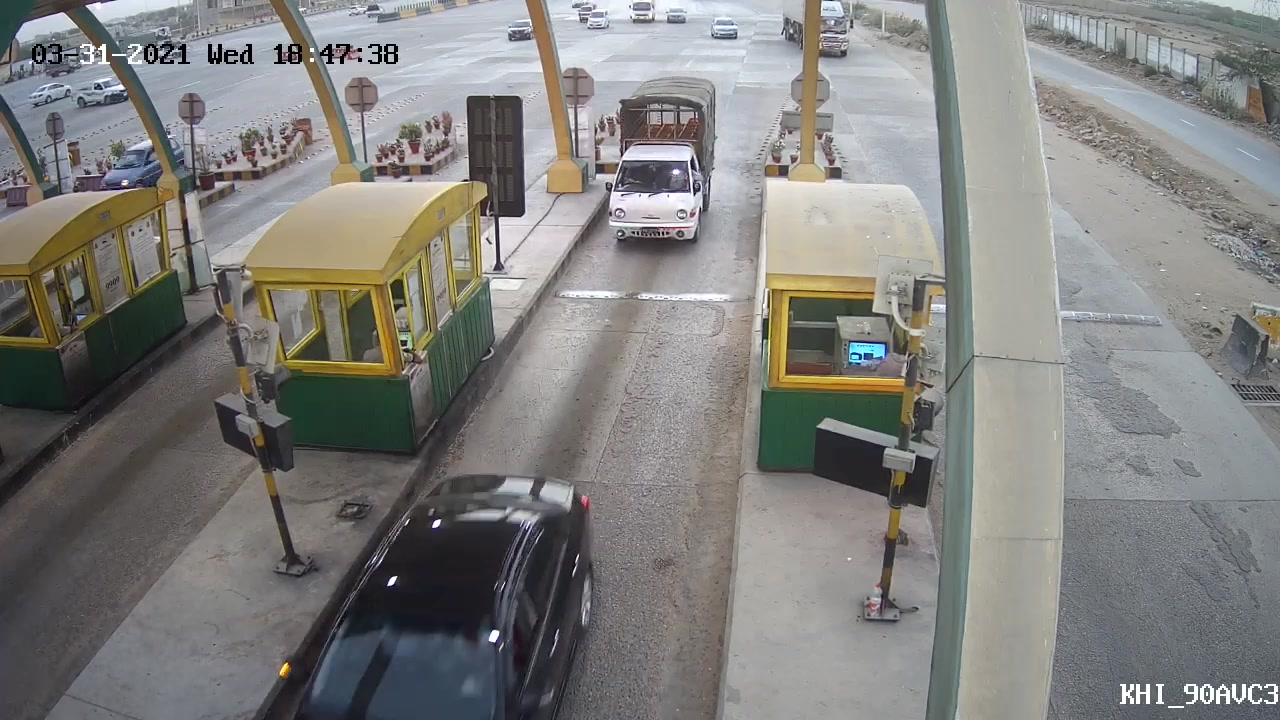F2: (601, 67, 728, 253)
